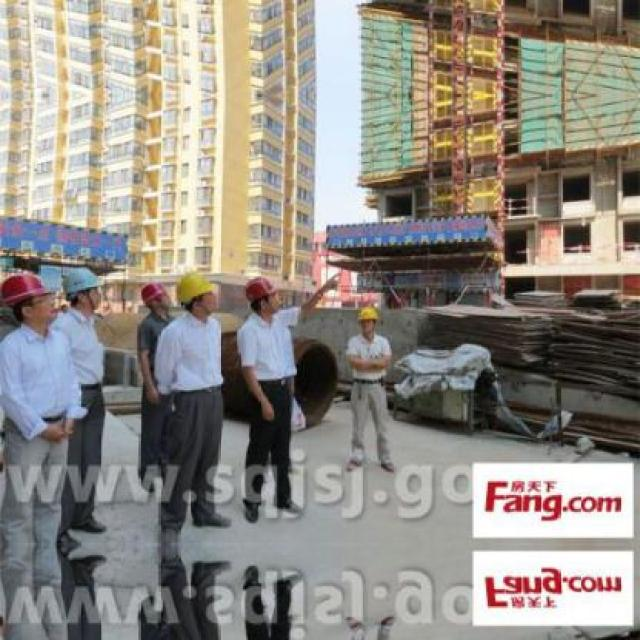helmet: (1, 269, 57, 325), (173, 263, 215, 315), (61, 267, 105, 311), (244, 271, 276, 313), (136, 279, 172, 309), (353, 302, 382, 338)
